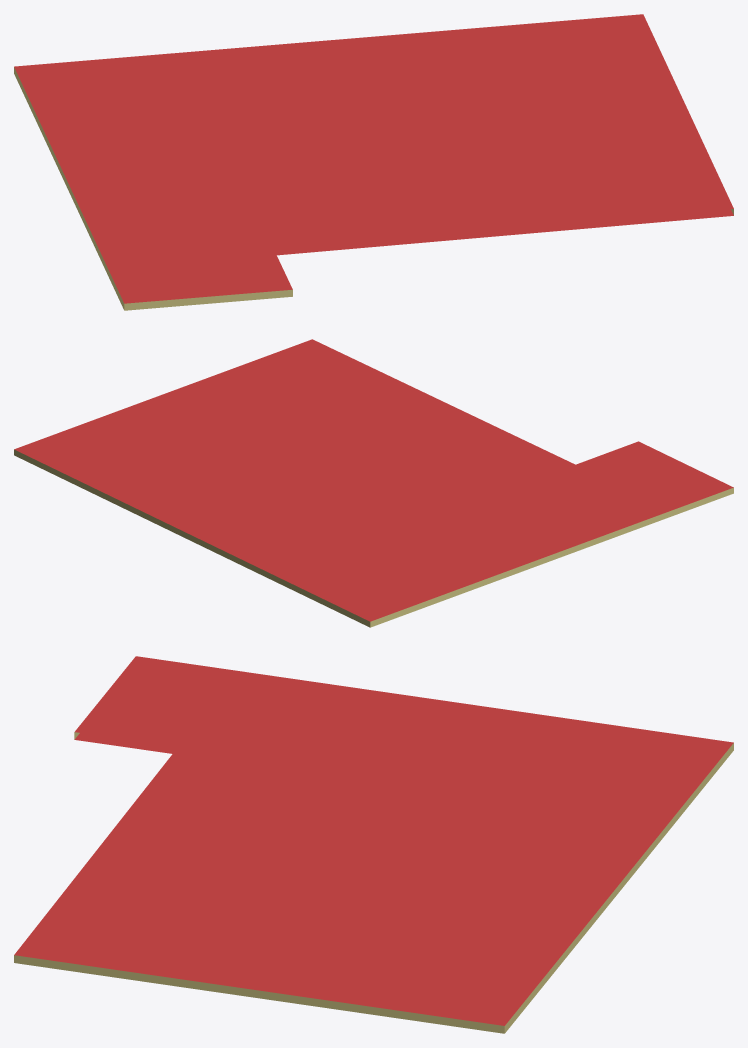
3 views of the same model, one above another, from view 1: azimuth 30°, elevation 25°; view 2: azimuth 150°, elevation 25°; view 3: azimuth 270°, elevation 25° (orthographic). The views are drawn at different scales.
Size of the model in its own units: 10.15 by 8.35 by 0.1.
